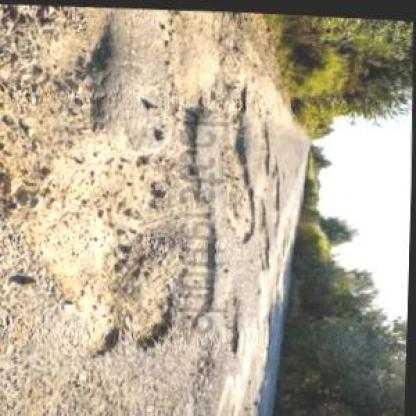pothole: (0, 128, 225, 366), (209, 72, 262, 243), (252, 155, 284, 229), (255, 197, 275, 268), (224, 290, 246, 352)
